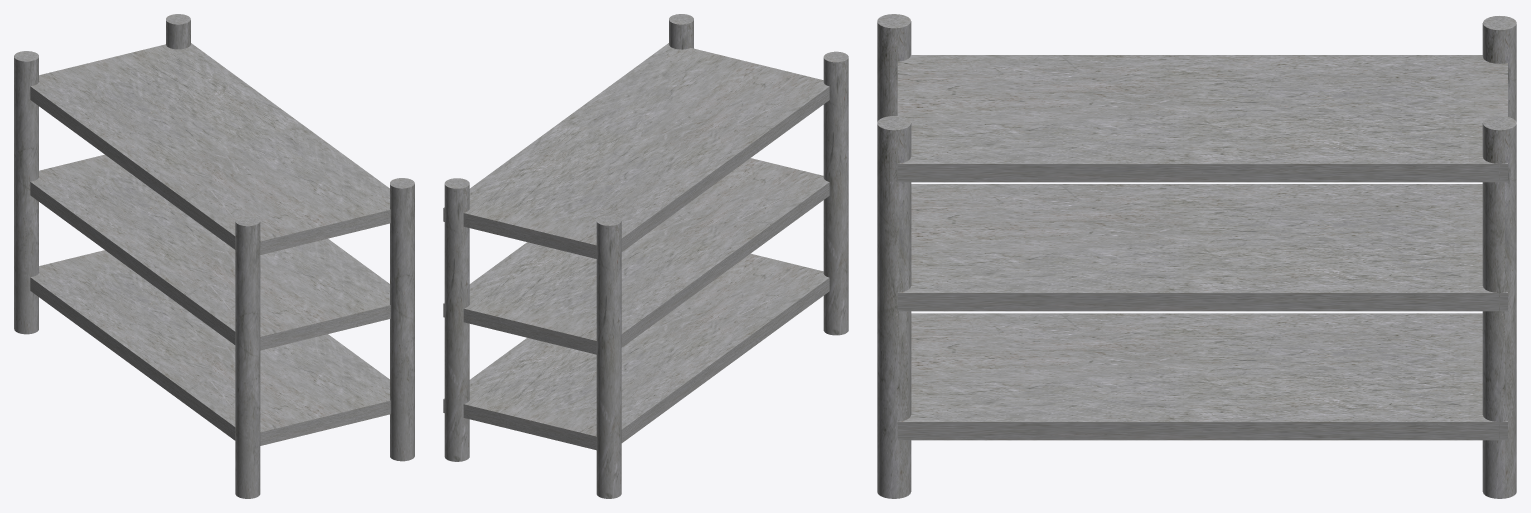
File: Kühlraumregal1.fbx
3 views of the same model, side by side, from view 1: azimuth 30°, elevation 25°; view 2: azimuth 150°, elevation 25°; view 3: azimuth 270°, elevation 25° (orthographic). The views are drawn at different scales.
Visible parts, largest first — view 1: pCube5, pCube3, pCube4, pCylinder6, pCylinder5, pCylinder2, pCylinder4; view 2: pCube5, pCube4, pCube3, pCylinder2, pCylinder4, pCylinder6, pCylinder5; view 3: pCube5, pCube4, pCube3, pCylinder5, pCylinder4, pCylinder6, pCylinder2.
Part boxes in pixels (x1=…): pCube5: x1=30, y1=43, x2=390, y2=254; pCube3: x1=30, y1=250, x2=390, y2=445; pCube4: x1=30, y1=154, x2=390, y2=350; pCylinder6: x1=235, y1=215, x2=260, y2=498; pCylinder5: x1=390, y1=178, x2=414, y2=461; pCylinder2: x1=14, y1=51, x2=38, y2=334; pCylinder4: x1=166, y1=14, x2=190, y2=49; pCube5: x1=443, y1=43, x2=829, y2=258; pCube4: x1=443, y1=158, x2=829, y2=354; pCube3: x1=443, y1=253, x2=829, y2=450; pCylinder2: x1=596, y1=215, x2=621, y2=498; pCylinder4: x1=444, y1=178, x2=469, y2=461; pCylinder6: x1=823, y1=51, x2=848, y2=335; pCylinder5: x1=669, y1=14, x2=693, y2=49; pCube5: x1=897, y1=55, x2=1507, y2=182; pCube4: x1=897, y1=184, x2=1507, y2=311; pCube3: x1=897, y1=313, x2=1507, y2=440; pCylinder5: x1=877, y1=116, x2=911, y2=498; pCylinder4: x1=1482, y1=116, x2=1516, y2=498; pCylinder6: x1=877, y1=14, x2=911, y2=121; pCylinder2: x1=1482, y1=16, x2=1516, y2=121.
Bounding box in the file's own units: 6.76 × 10 × 15.72.
Materials: 2 (2 with a texture image).
